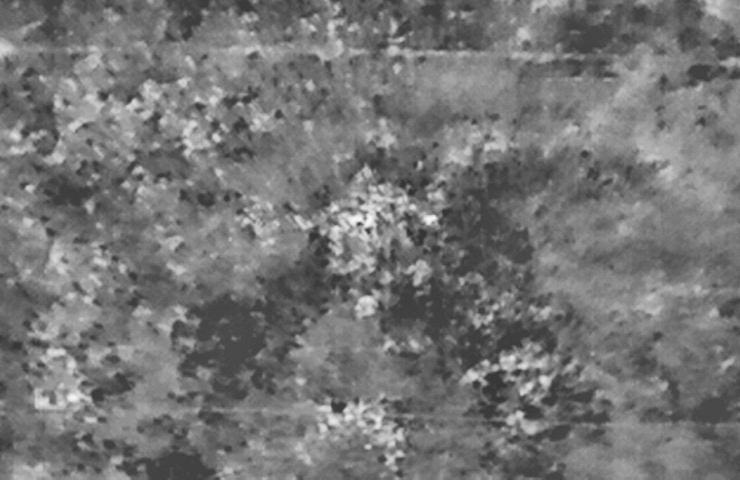landmines: (325, 178, 421, 272)
